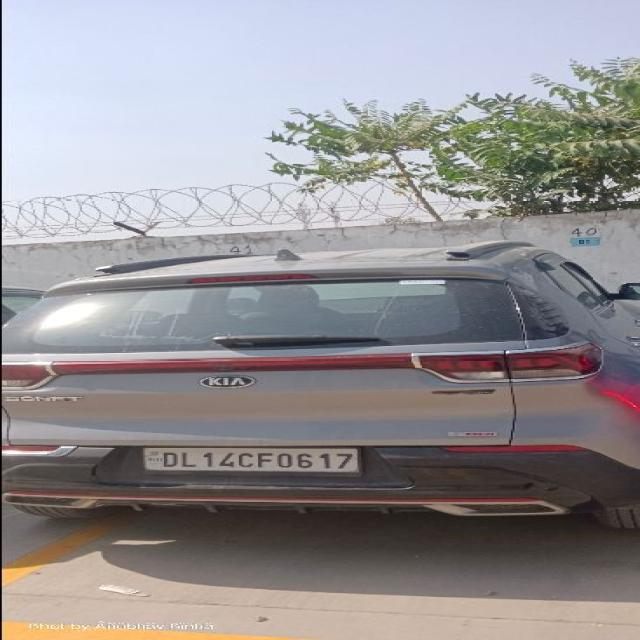license_plate: (140, 446, 362, 474)
